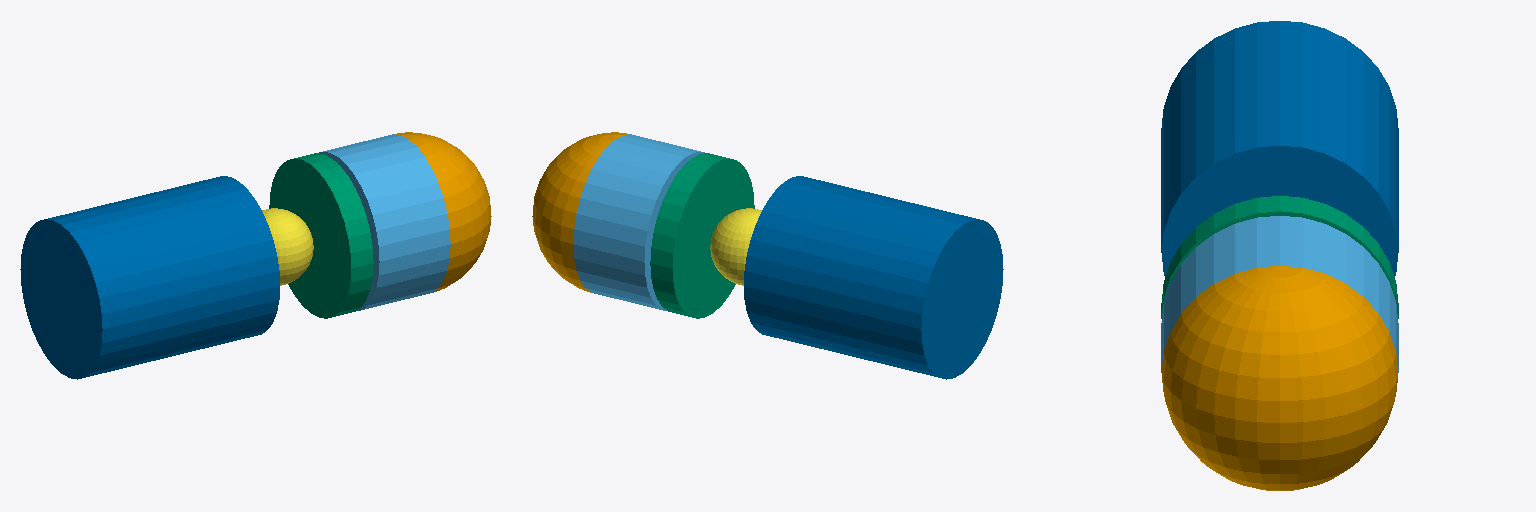
robot.urdf — robots/snake_onelink_inner:
<?xml version="1.0"?>
<robot name="robots/snake_onelink_inner">
<link name="eye">
  <inertial>
   <mass value="1"/>
   <inertia ixx="0.00576" ixy="0" ixz="0" iyy="0.00576" iyz="0" izz="0.00576"/>
  </inertial>
  <collision>
    <origin rpy="0 0 0" xyz="0 0 0"/>
    <geometry>
      <sphere radius="0.12"/>
    </geometry>
  </collision>
  <visual>
    <origin rpy="0 0 0" xyz="0 0 0"/>
    <geometry>
      <sphere radius="0.12"/>
    </geometry>
  </visual>
</link>

 <link name="head">
  <inertial>
    <mass value="1"/>
    <inertia ixx="0.0048" ixy="0" ixz="0" iyy="0.0048" iyz="0" izz="0.0036"/>
  </inertial>
  <visual>
    <origin rpy="0 1.57 0" xyz="-0.06 0 0"/>
    <geometry>
      <cylinder length="0.12" radius="0.12"/>
    </geometry>
  </visual>
  <collision>
    <origin rpy="0 1.57 0" xyz="-0.06 0 0"/>
    <geometry>
      <cylinder length="0.12" radius="0.12"/>
    </geometry>
  </collision>
 </link>

<joint name="joint_eye_head" type="fixed">
  <origin rpy="0 0 0" xyz="0 0 0"/>
  <parent link="eye"/>
  <child link="head"/>
</joint>

<!--############################################################################
body0
##############################################################################-->
 <link name="body0_cylinder">
  <inertial>
    <mass value="1"/>
    <inertia ixx="0.0037171875" ixy="0" ixz="0" iyy="0.0037171875" iyz="0" izz="0.0036"/>
  </inertial>
  <visual>
    <origin rpy="0 1.57 0" xyz="-0.01875 0 0"/>
    <geometry>
      <cylinder length="0.0375" radius="0.12"/>
    </geometry>
  </visual>
  <collision>
    <origin rpy="0 1.57 0" xyz="-0.01875 0 0"/>
    <geometry>
      <cylinder length="0.0375" radius="0.12"/>
    </geometry>
  </collision>
 </link>

<joint name="head_body0_joint" type="fixed">
  <origin rpy="0 0 0" xyz="-0.13 0 0"/>
  <parent link="head"/>
  <child link="body0_cylinder"/>
</joint>

<link name="body0">
  <inertial>
   <mass value="1"/>
   <inertia ixx="0.0012996" ixy="0" ixz="0" iyy="0.0012996" iyz="0" izz="0.0012996"/>
  </inertial>
  <collision>
    <origin rpy="0 0 0" xyz="-0.0975 0 0"/>
    <geometry>
      <sphere radius="0.057"/>
    </geometry>
  </collision>
  <visual>
    <origin rpy="0 0 0" xyz="-0.0975 0 0"/>
    <geometry>
      <sphere radius="0.057"/>
    </geometry>
  </visual>
</link>

<joint name="body0_fixed" type="fixed">
  <origin rpy="0 0 0" xyz="0 0 0"/>
  <parent link="body0_cylinder"/>
  <child link="body0"/>
</joint>

 <link name="body1_cylinder">
  <inertial>
    <mass value="1"/>
    <inertia ixx="0.0111" ixy="0" ixz="0" iyy="0.0111" iyz="0" izz="0.0036"/>
  </inertial>
  <visual>
    <origin rpy="0 1.57 0" xyz="-0.21 0 0"/>
    <geometry>
      <cylinder length="0.3" radius="0.12"/>
    </geometry>
  </visual>
  <collision>
    <origin rpy="0 1.57 0" xyz="-0.21 0 0"/>
    <geometry>
      <cylinder length="0.3" radius="0.12"/>
    </geometry>
  </collision>
 </link>

<joint name="body0_body1_joint_revolute_Z" type="revolute">
  <origin rpy="0 0 0" xyz="-0.0975 0 0"/>
  <parent link="body0"/>
  <child link="body0_spherical_joint_link"/>
  <axis xyz="0 0 1"/>
  <dynamics damping="0.01" friction="0.5"/>
  <limit lower="-0.785398163397" upper="0.785398163397" effort="0.01" velocity="100"/>
</joint>

<link name="body0_spherical_joint_link" physical="0">
  <inertial>
   <mass value="1"/>
   <inertia ixx="4e-07" ixy="0" ixz="0" iyy="4e-07" iyz="0" izz="4e-07"/>
  </inertial>
  <collision>
    <origin rpy="0 0 0" xyz="0 0 0"/>
    <geometry>
      <sphere radius="0.001"/>
    </geometry>
  </collision>
  <visual>
    <origin rpy="0 0 0" xyz="0 0 0"/>
    <geometry>
      <sphere radius="0.001"/>
    </geometry>
  </visual>
</link>

<joint name="body0_body1_joint_revolute_Y" type="revolute">
  <origin rpy="0 0 0" xyz="0 0 0"/>
  <parent link="body0_spherical_joint_link"/>
  <child link="body1_cylinder"/>
  <axis xyz="0 1 0"/>
  <dynamics damping="0.01" friction="0.5"/>
  <limit lower="-0.785398163397" upper="0.785398163397" effort="0.01" velocity="100"/>
</joint>

  <klampt package_root="../../.." default_acc_max="4" >
  </klampt>
</robot>

--- Facts derived from the render (not from the file) ---
Views: 3 orthographic renders of the robot side by side, from view 1: azimuth 30°, elevation 25°; view 2: azimuth 150°, elevation 25°; view 3: azimuth 270°, elevation 25°.
Robot: robots/snake_onelink_inner — 6 links, 5 joints (2 revolute, 3 fixed); root link eye; default pose: all joints at 0.
Visible links, largest first — view 1: body1_cylinder, head, body0_cylinder, eye, body0; view 2: body1_cylinder, head, body0_cylinder, eye, body0; view 3: eye, body1_cylinder, head, body0_cylinder.
Boxes of the visible links, x1,y1,x2,y2 form: body1_cylinder: (20,176,279,379); head: (319,134,450,310); body0_cylinder: (269,153,373,318); eye: (396,132,491,292); body0: (262,208,313,285); body1_cylinder: (744,176,1003,379); head: (573,134,704,310); body0_cylinder: (650,153,754,318); eye: (532,132,627,292); body0: (710,208,761,285); eye: (1162,266,1397,490); body1_cylinder: (1161,21,1398,276); head: (1161,216,1398,372); body0_cylinder: (1161,196,1398,318).
Size in the robot's own frame: 0.7076 by 0.24 by 0.2402 metres.
Geometry: primitives only (box / cylinder / sphere), no mesh files.